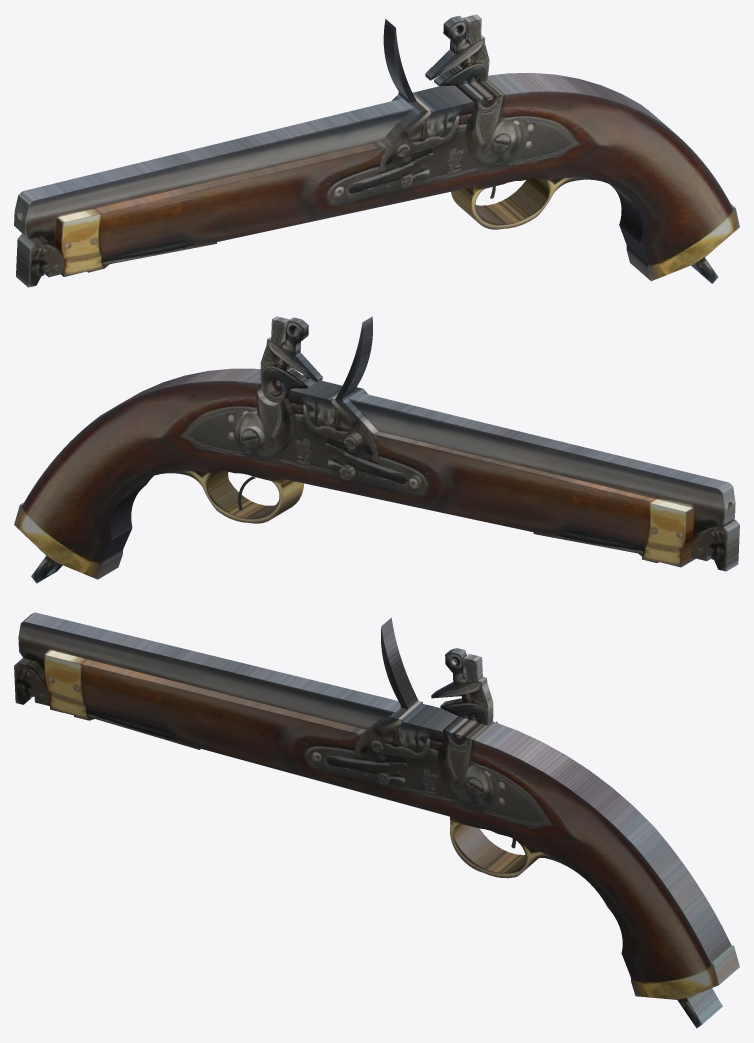
3 renders of one model, top to bottom at view 1: azimuth 30°, elevation 25°; view 2: azimuth 150°, elevation 25°; view 3: azimuth 330°, elevation 25°, orthographic. The views are drawn at different scales.
Parts seen in each view (by area): view 1: SketchUp (×2); view 2: SketchUp (×3); view 3: SketchUp (×2).
Boxes of the visible parts, x1,y1,x2,y2 form: SketchUp (×2): [14, 14, 739, 287]; SketchUp (×3): [14, 316, 739, 583]; SketchUp (×2): [14, 612, 739, 1028].
Size of the model in its own units: 488 by 38.3 by 220.
1 material, 1 textured.
